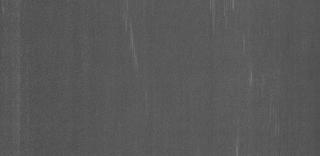silk spot: (115, 7, 148, 66), (264, 100, 292, 132), (204, 2, 236, 29), (245, 54, 261, 92), (237, 123, 246, 155)
